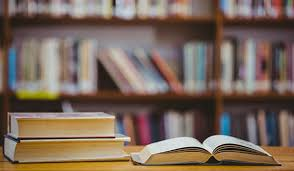Open Book: (132, 128, 281, 166)
